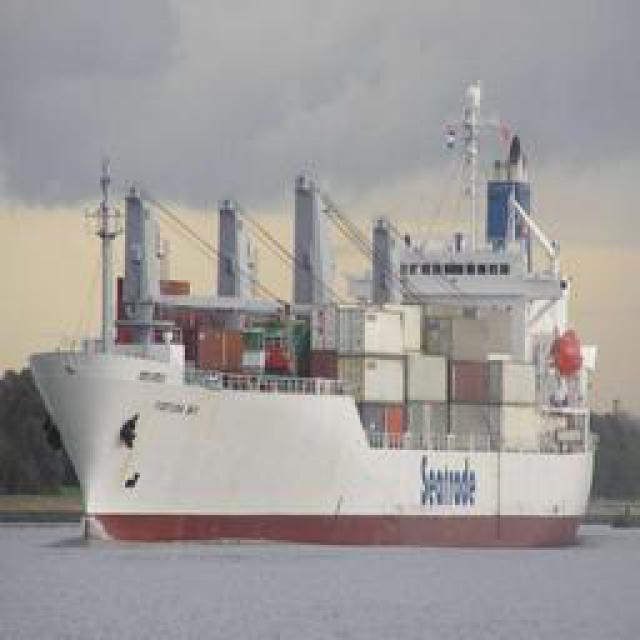Ship: (44, 50, 599, 560)
